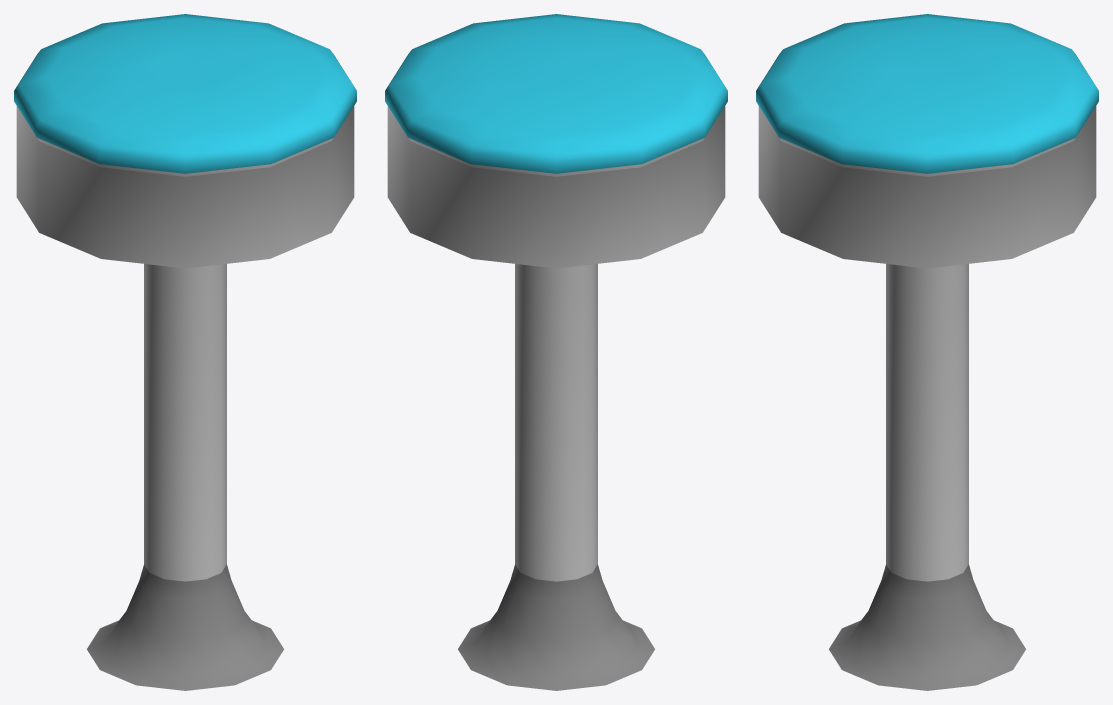
The model's file is tabu.fbx.
3 renders of one model, left to right at view 1: azimuth 30°, elevation 25°; view 2: azimuth 150°, elevation 25°; view 3: azimuth 270°, elevation 25°, orthographic.
Visible parts, largest first — view 1: Tabu; view 2: Tabu; view 3: Tabu.
Boxes of the visible parts, x1,y1,x2,y2 form: Tabu: (14, 14, 356, 690); Tabu: (385, 14, 727, 690); Tabu: (756, 14, 1098, 690).
Size of the model in its own units: 37.28 by 69.53 by 37.28.
